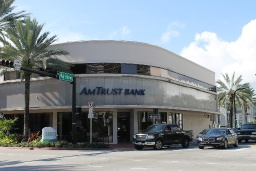car: (130, 122, 195, 150), (196, 128, 238, 148), (237, 122, 256, 143)
